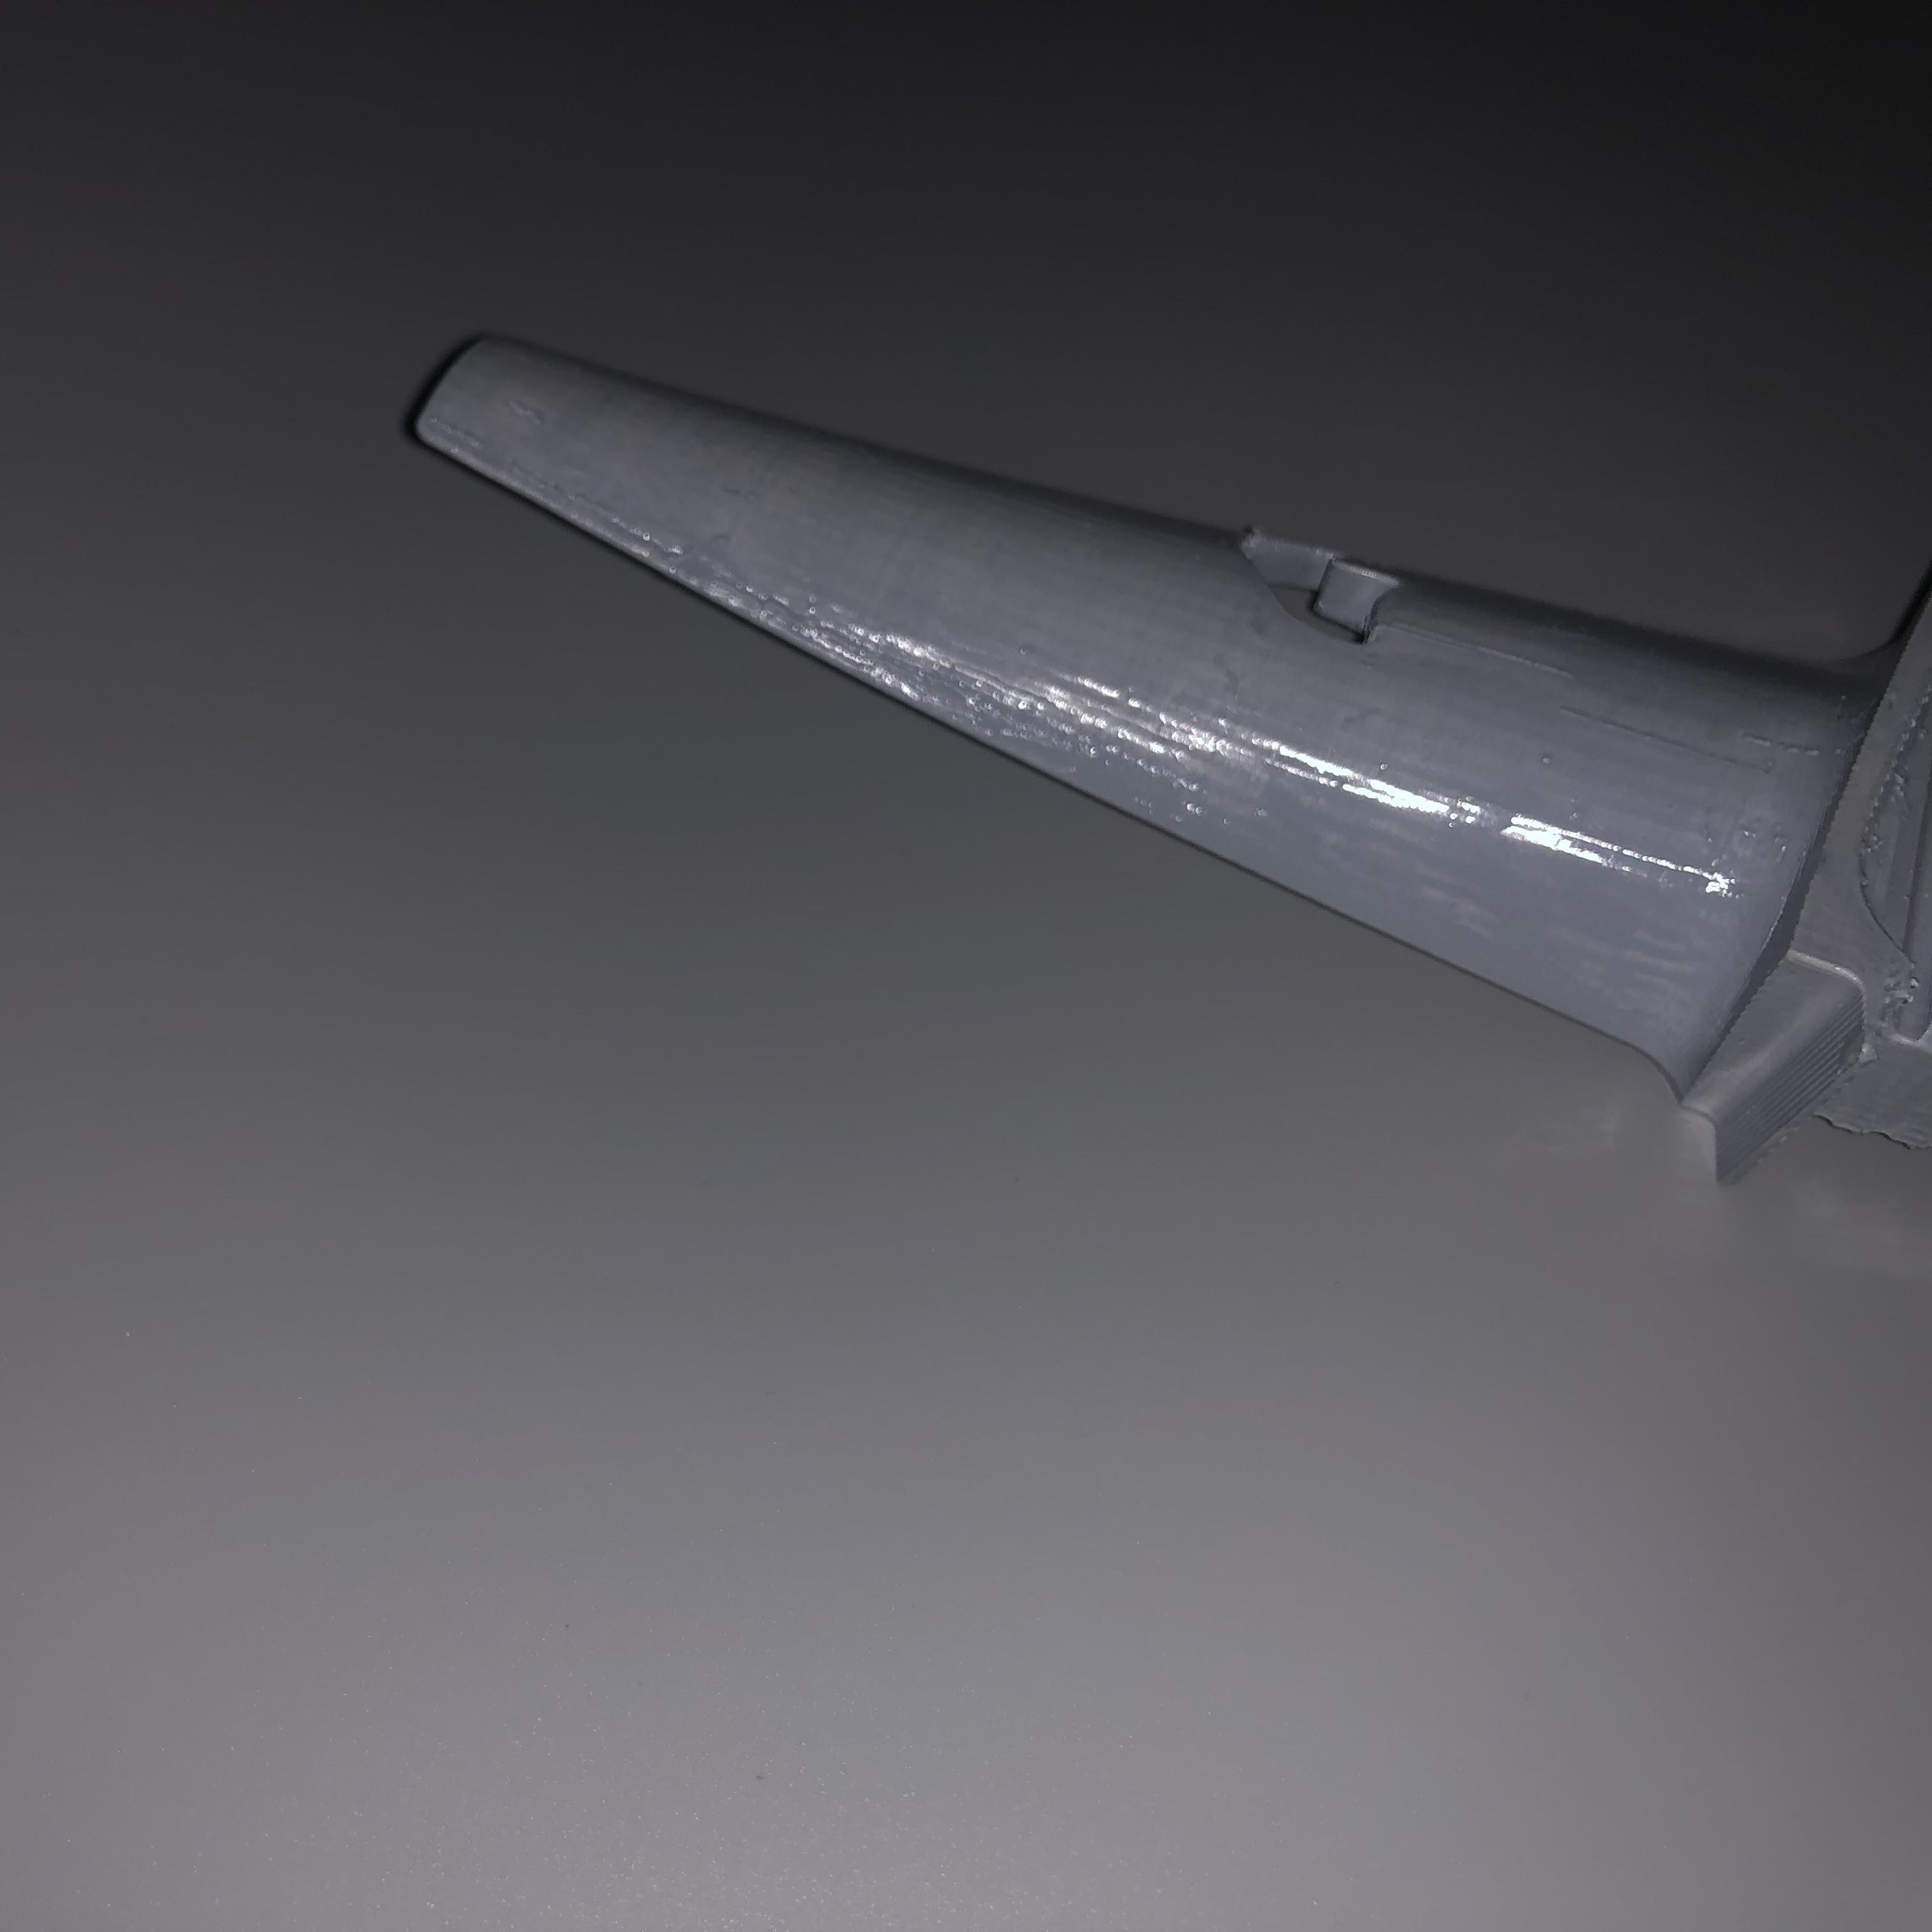breakdown: (1223, 524, 1408, 653)
